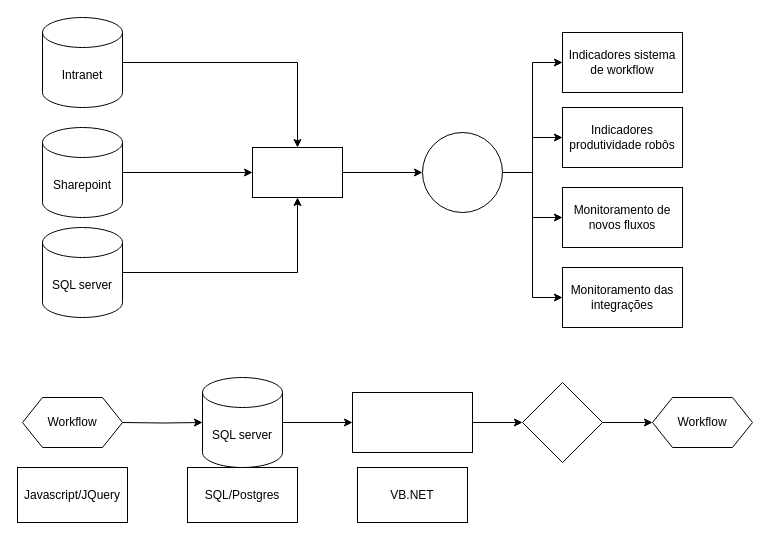
Some shapes in this 770 by 540 pixel diagram are drawn without their labels. Here are the shapes that lost their labels. From the top down, the centre of each, then its label:
At (x=297, y=172): "Query".
At (x=462, y=172): "Power BI".
At (x=412, y=422): "RPA".
At (x=562, y=422): "API".
